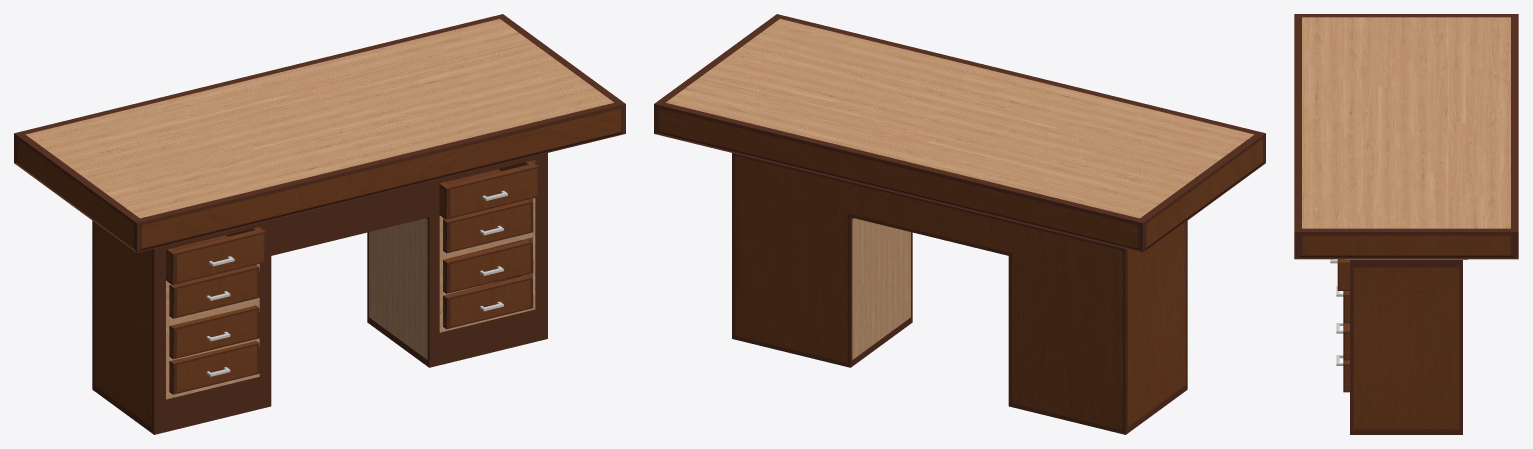
Rendered from Desk_Study.fbx.
3 renders of one model, left to right at view 1: azimuth 30°, elevation 25°; view 2: azimuth 150°, elevation 25°; view 3: azimuth 270°, elevation 25°, orthographic. The views are drawn at different scales.
Parts seen in each view (by area): view 1: Study_Desk; view 2: Study_Desk; view 3: Study_Desk.
Boxes of the visible parts, x1=… form: Study_Desk: x1=14, y1=14, x2=625, y2=434; Study_Desk: x1=654, y1=14, x2=1265, y2=434; Study_Desk: x1=1294, y1=14, x2=1518, y2=434.
Bounding box in the file's own units: 220 × 106 × 95.91.
